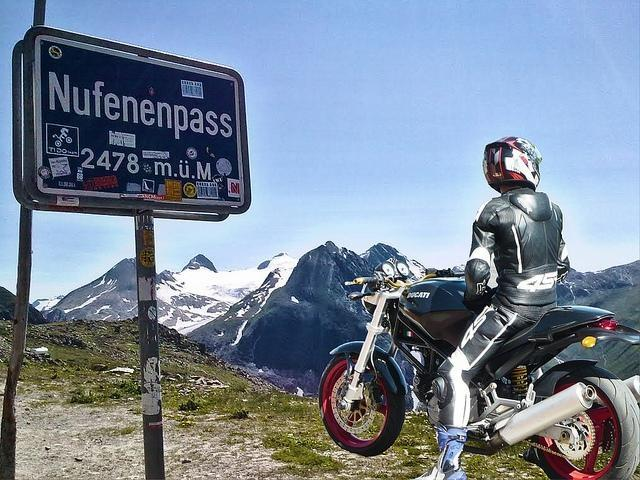motorcycle: (315, 250, 640, 472)
